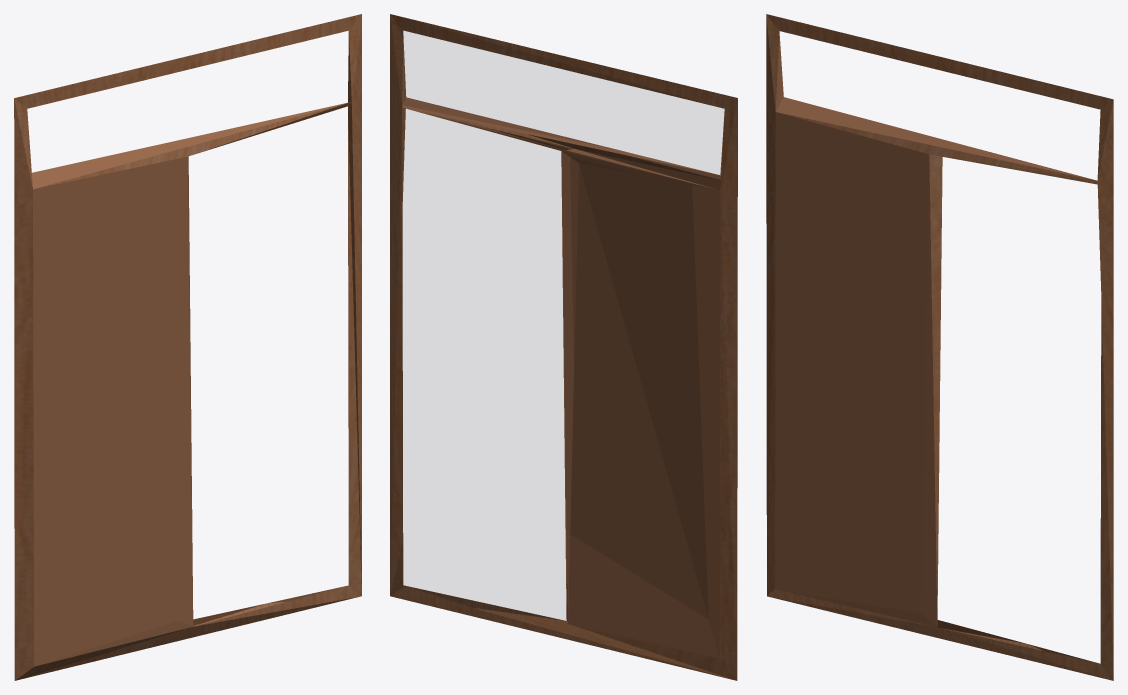
File: window6LP.dae
3 views of the same model, side by side, from view 1: azimuth 30°, elevation 25°; view 2: azimuth 150°, elevation 25°; view 3: azimuth 330°, elevation 25° (orthographic).
Parts seen in each view (by area): view 1: group_0.004; view 2: group_0.004; view 3: group_0.004.
Part boxes in pixels (box(x1,y1,x2,y2)): group_0.004: box(14, 14, 361, 680); group_0.004: box(390, 14, 737, 680); group_0.004: box(766, 14, 1113, 680).
Bounding box in the file's own units: 0.6343 × 0.0305 × 1.02.
2 materials, 1 textured.
